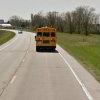Bus: (31, 21, 59, 55)
